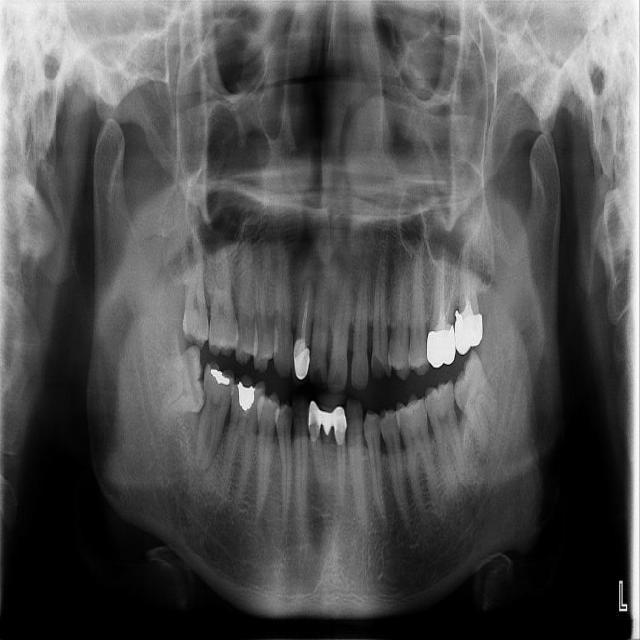52: (224, 371, 268, 433), (198, 357, 238, 417), (304, 399, 350, 446), (423, 324, 458, 370), (455, 311, 483, 354), (290, 338, 311, 386), (201, 385, 209, 412)
73: (429, 235, 463, 335), (453, 233, 481, 316), (294, 278, 316, 353), (624, 618, 630, 627)
BioHorizons Implant: (453, 233, 489, 356)
Biomet 3i Implant: (439, 349, 514, 453)
Blue Sky Bio Implant: (422, 379, 468, 490)
Caries: (180, 219, 210, 351)
Implant: (194, 358, 238, 475)
Keystone Dental Implant: (152, 344, 209, 431)
